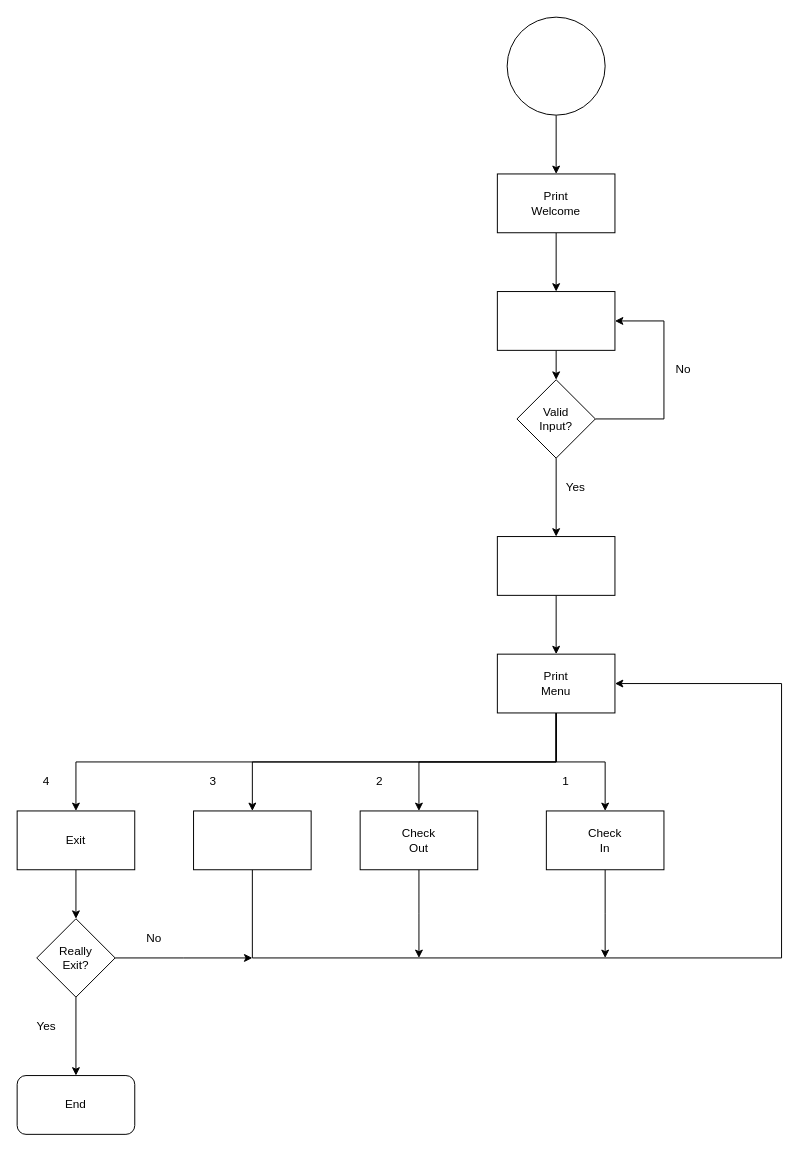
Some shapes in this 807 by 1152 pixel diagram are drawn without their labels. Here are the shapes that lost their labels. From the top down, the box of each, then its label:
(506, 16, 605, 115): Start
(496, 291, 615, 350): Prompt Capacity
(496, 536, 615, 595): Print Available Capacity
(193, 810, 311, 870): View Guests
